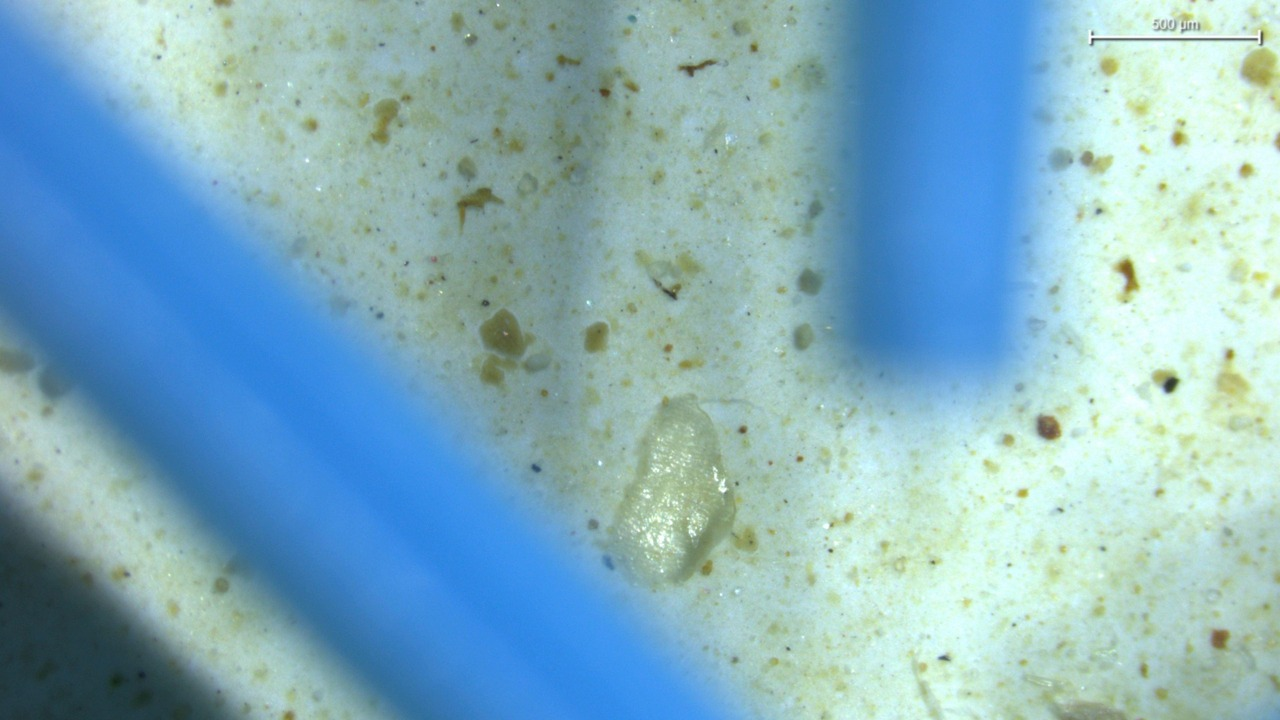microplastic_fragment: (615, 396, 737, 584)
